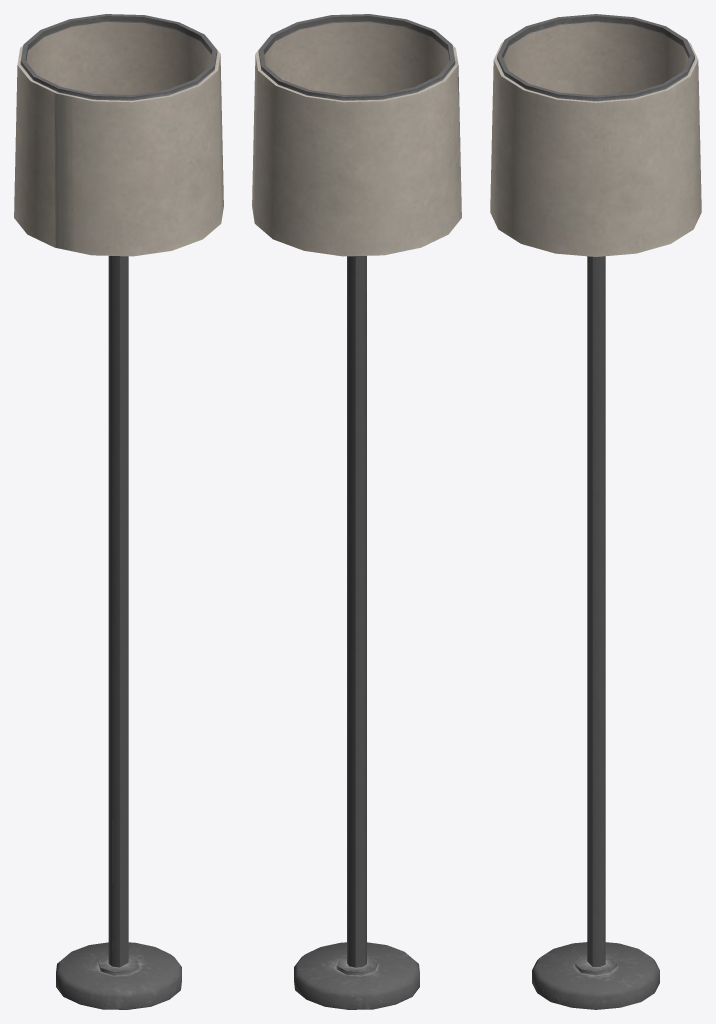
The model's file is furniture.glb.
3 views of the same model, side by side, from view 1: azimuth 30°, elevation 25°; view 2: azimuth 150°, elevation 25°; view 3: azimuth 270°, elevation 25° (orthographic).
Visible parts, largest first — view 1: SM_LampShade_LOD1__0; view 2: SM_LampShade_LOD1__0; view 3: SM_LampShade_LOD1__0.
Boxes of the visible parts, left/top/right/bottom form: SM_LampShade_LOD1__0: left=14, top=14, right=223, bottom=1009; SM_LampShade_LOD1__0: left=252, top=14, right=461, bottom=1009; SM_LampShade_LOD1__0: left=490, top=14, right=701, bottom=1009.
Size of the model in its own units: 2.75 by 13.29 by 2.75.
1 material, 1 textured.
